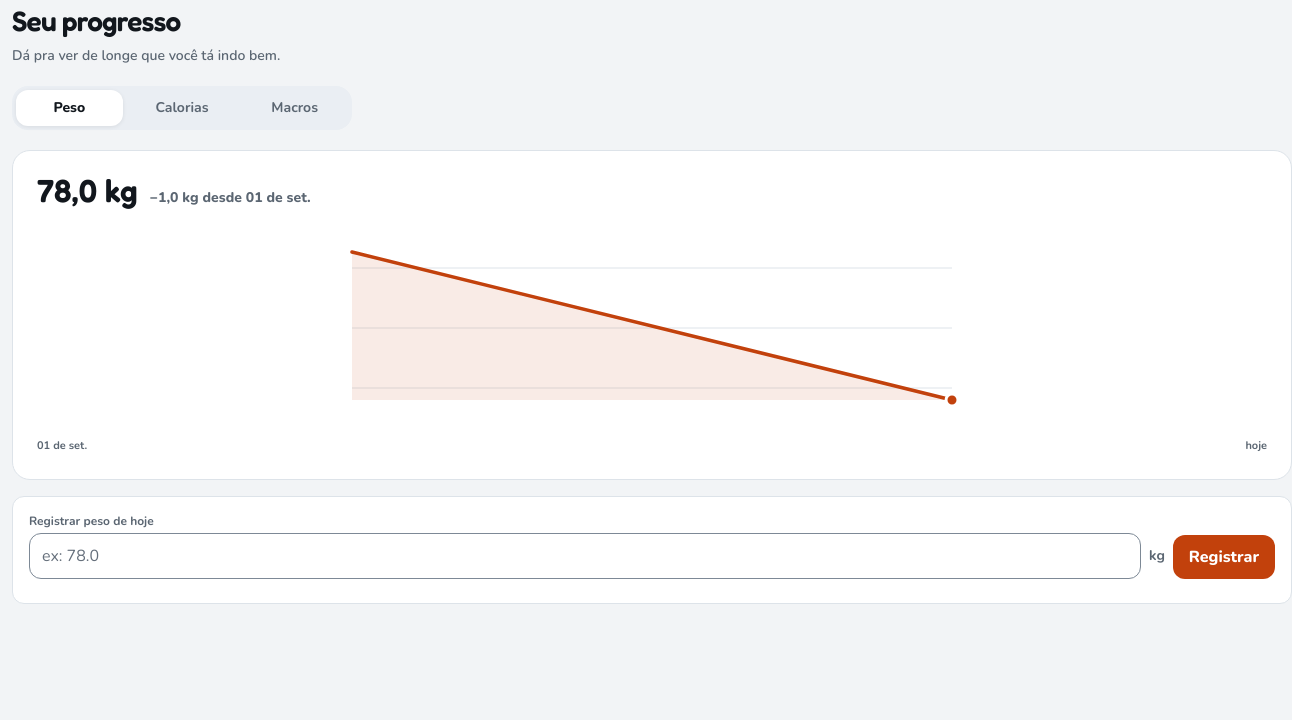
Test: ProgressPage weight form › refuses a weight no person has
Type "1000" into the number field labelled "Registrar peso de hoje".
click(585, 556); type("1000")  # box x1=29 y1=532 x2=1141 y2=578
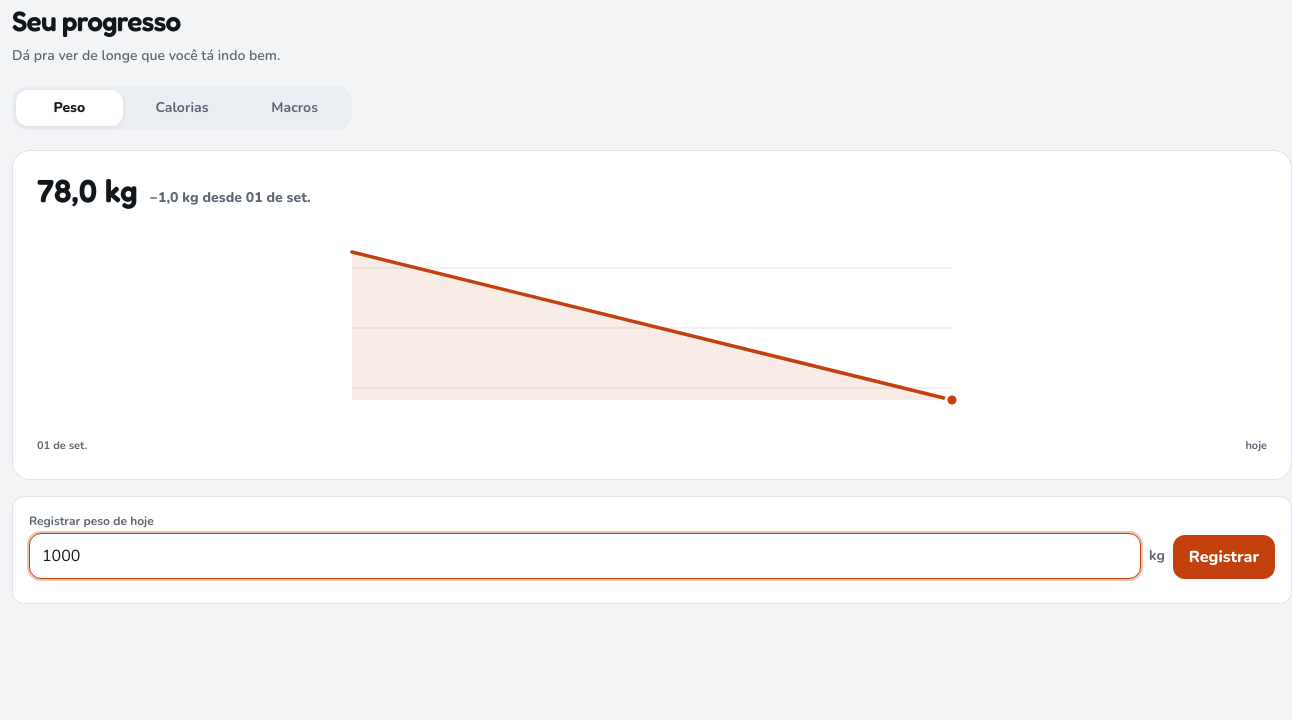
Click the button "Registrar".
click(1224, 556)  # box x1=1173 y1=534 x2=1275 y2=578
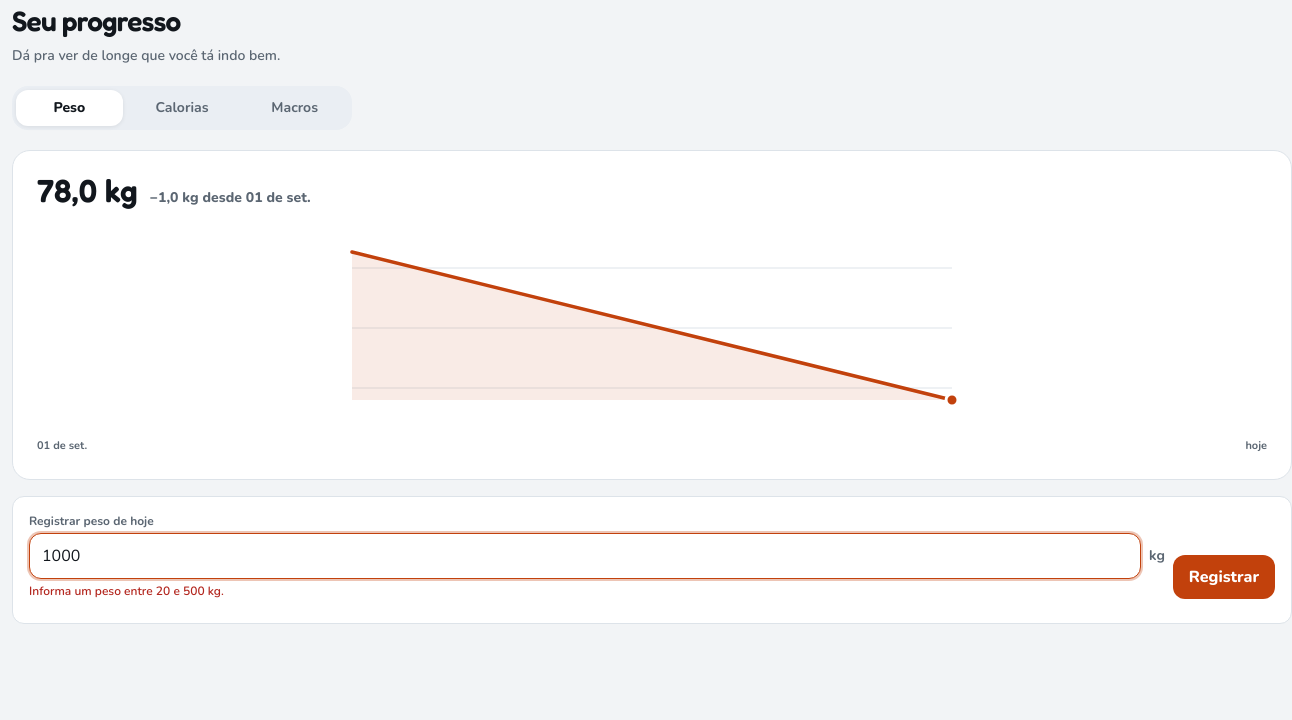
Expected: the message reads "Informa um peso entre 20 e 500 kg.", x1=29 y1=582 x2=224 y2=598
